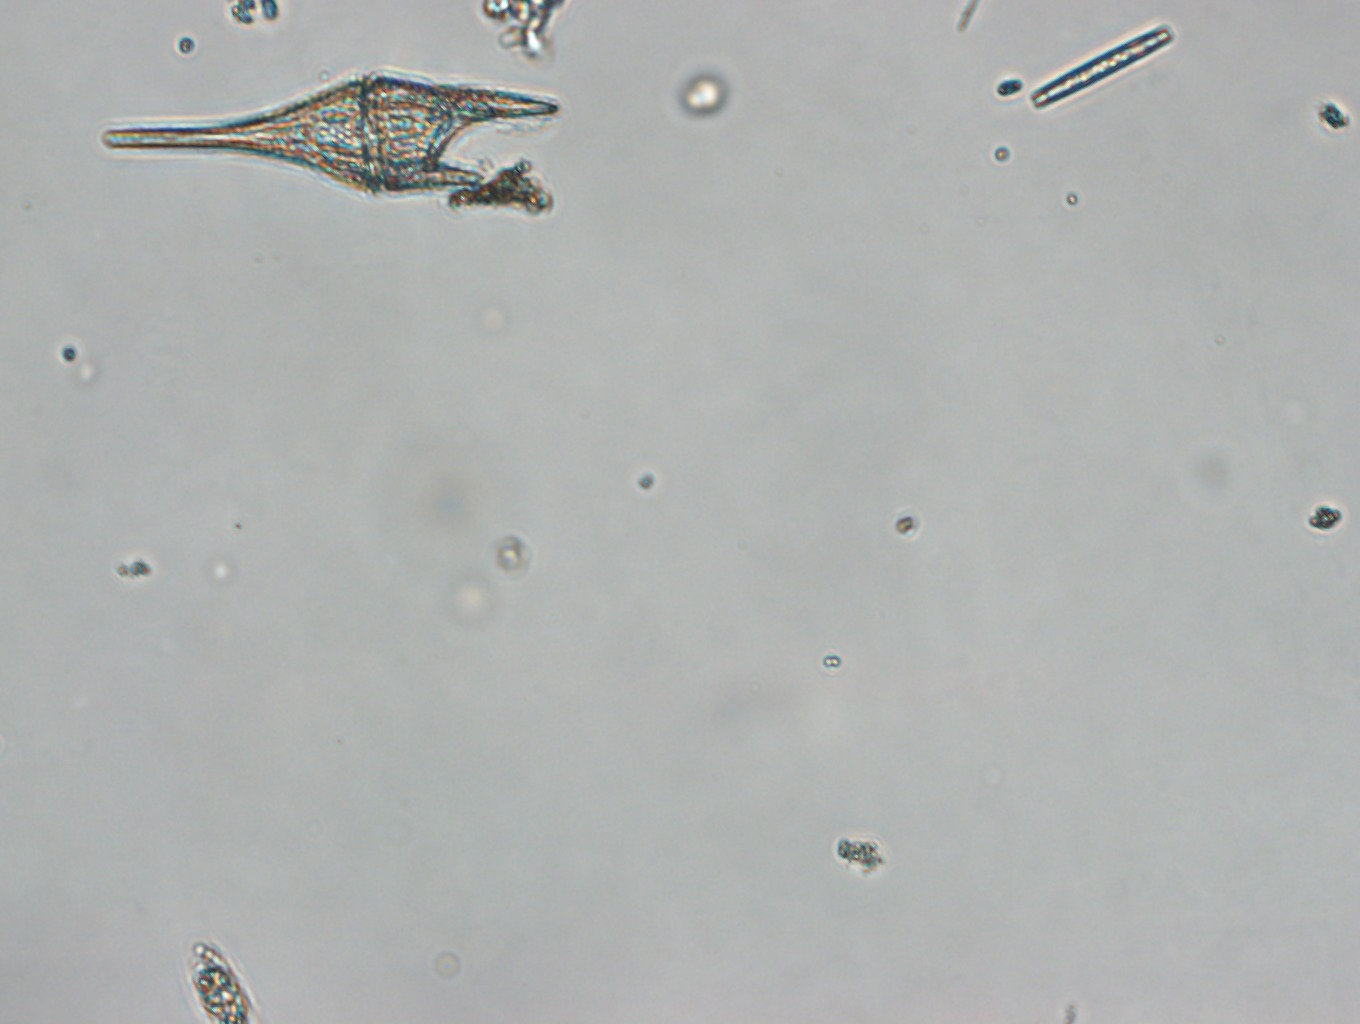ceratium furca: (102, 68, 569, 194)
